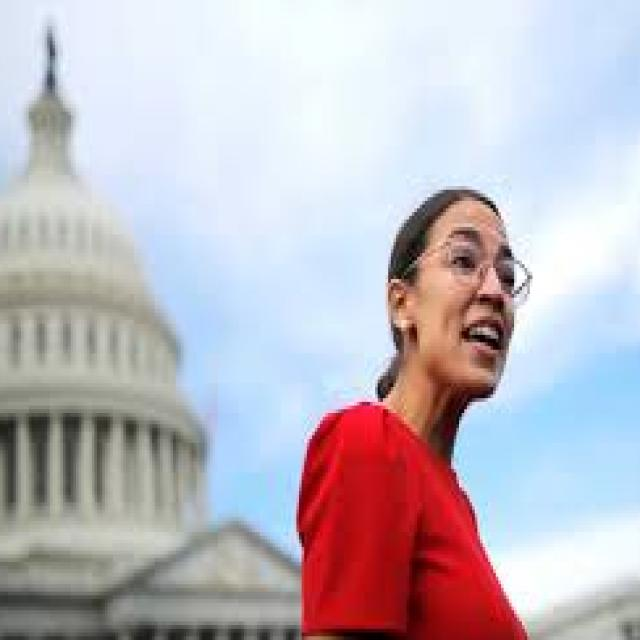Glasses: (386, 227, 532, 309)
